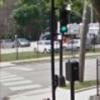crosswalks: (0, 74, 47, 98)
